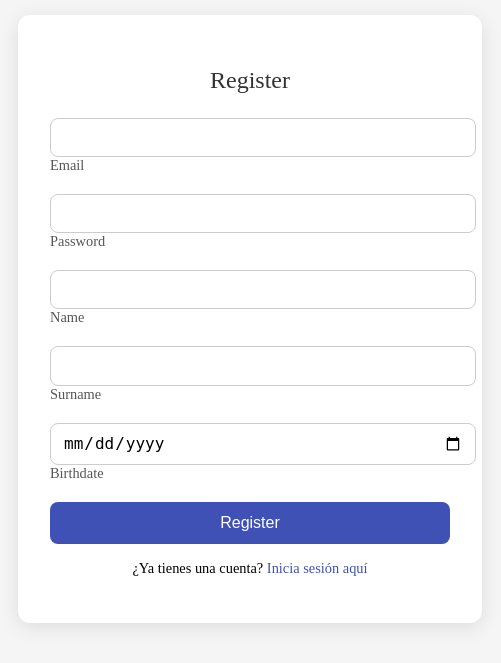
Test: Register.vue › muestra un mensaje de error si la API falla
This screenshot has width=501, height=663.
Note: Llena y envía el formulario
Type "bad@user.com" into the field labelled "Email".
click(263, 137); type("bad@user.com")  # box [50, 118, 476, 157]
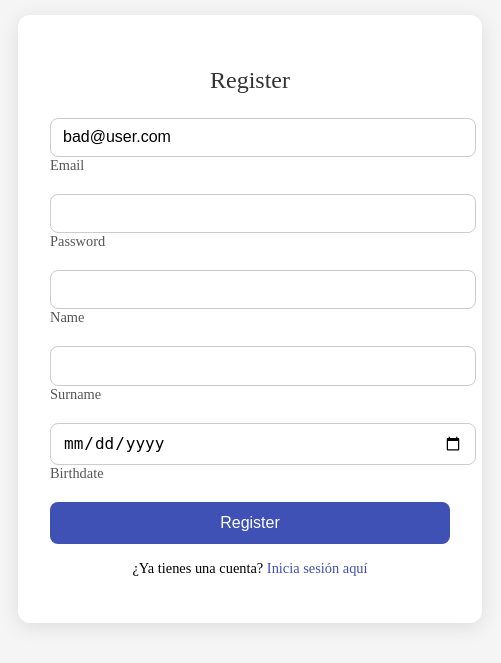
Type "12345678" into the password field labelled "Password".
click(263, 214); type("12345678")  # box [50, 194, 476, 233]
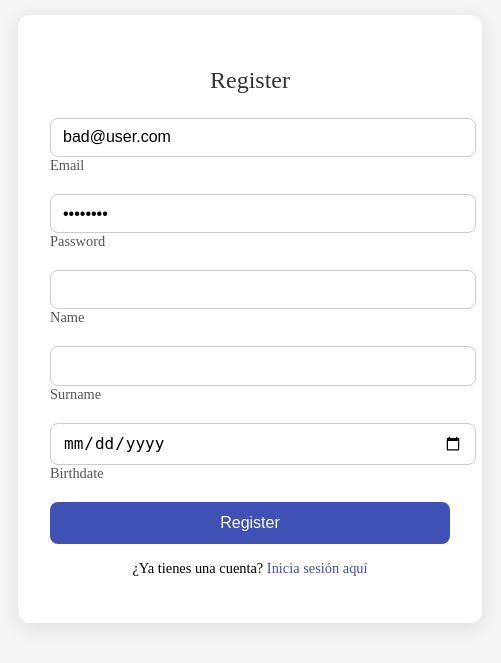
Type "Bad" into the field labelled "Name".
click(263, 290); type("Bad")  # box [50, 270, 476, 309]
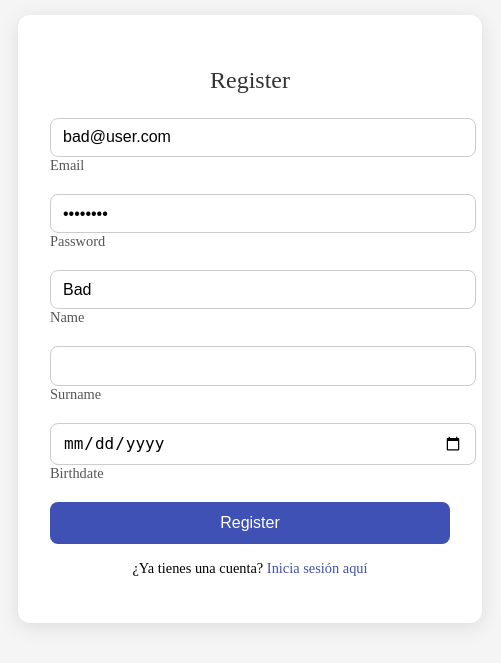
Type "User" into the field labelled "Surname".
click(263, 366); type("User")  # box [50, 346, 476, 386]
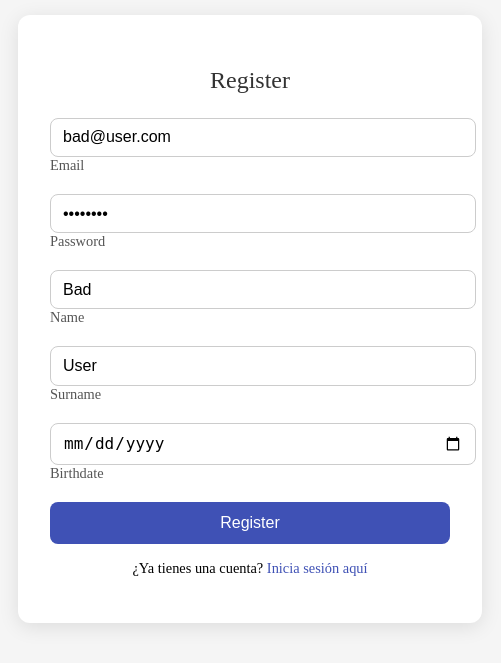
Type "2000-01-01" into the date field labelled "Birthdate".
click(263, 444); type("2000-01-01")  # box [50, 422, 476, 465]
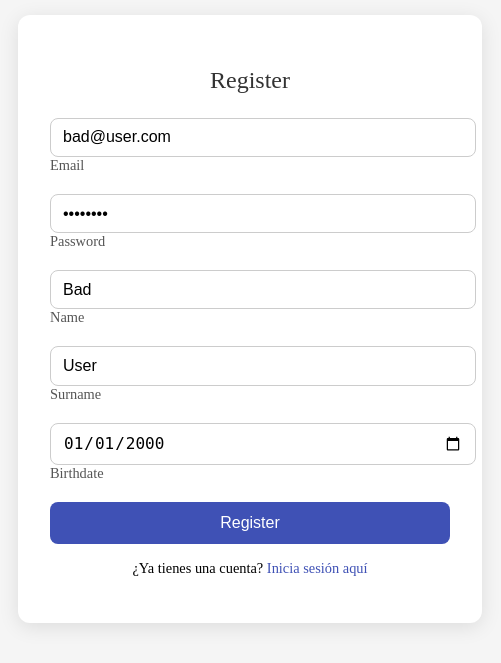
Submit the form, box [50, 118, 450, 577]
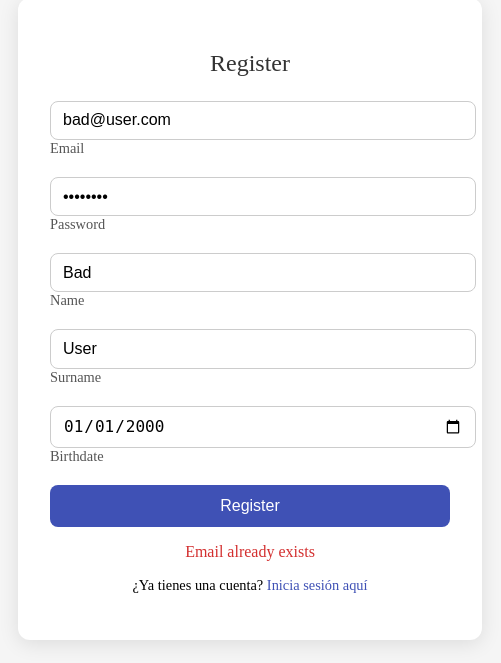
Expected: the text with class "error" reads "Email already exists", [185, 543, 315, 560]
